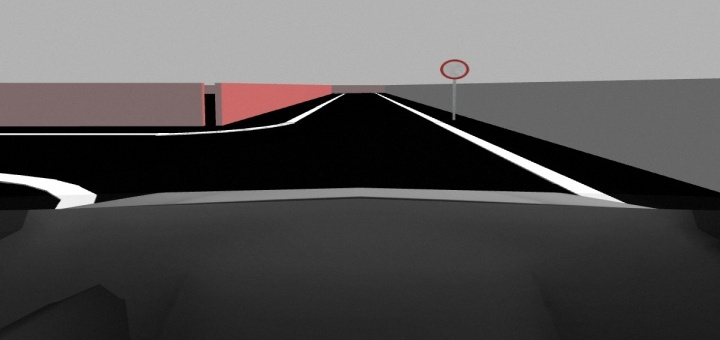girilmez: (439, 58, 471, 81)
